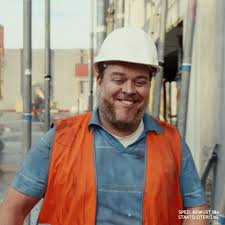Person_wearing_helmet: (89, 20, 159, 81)
